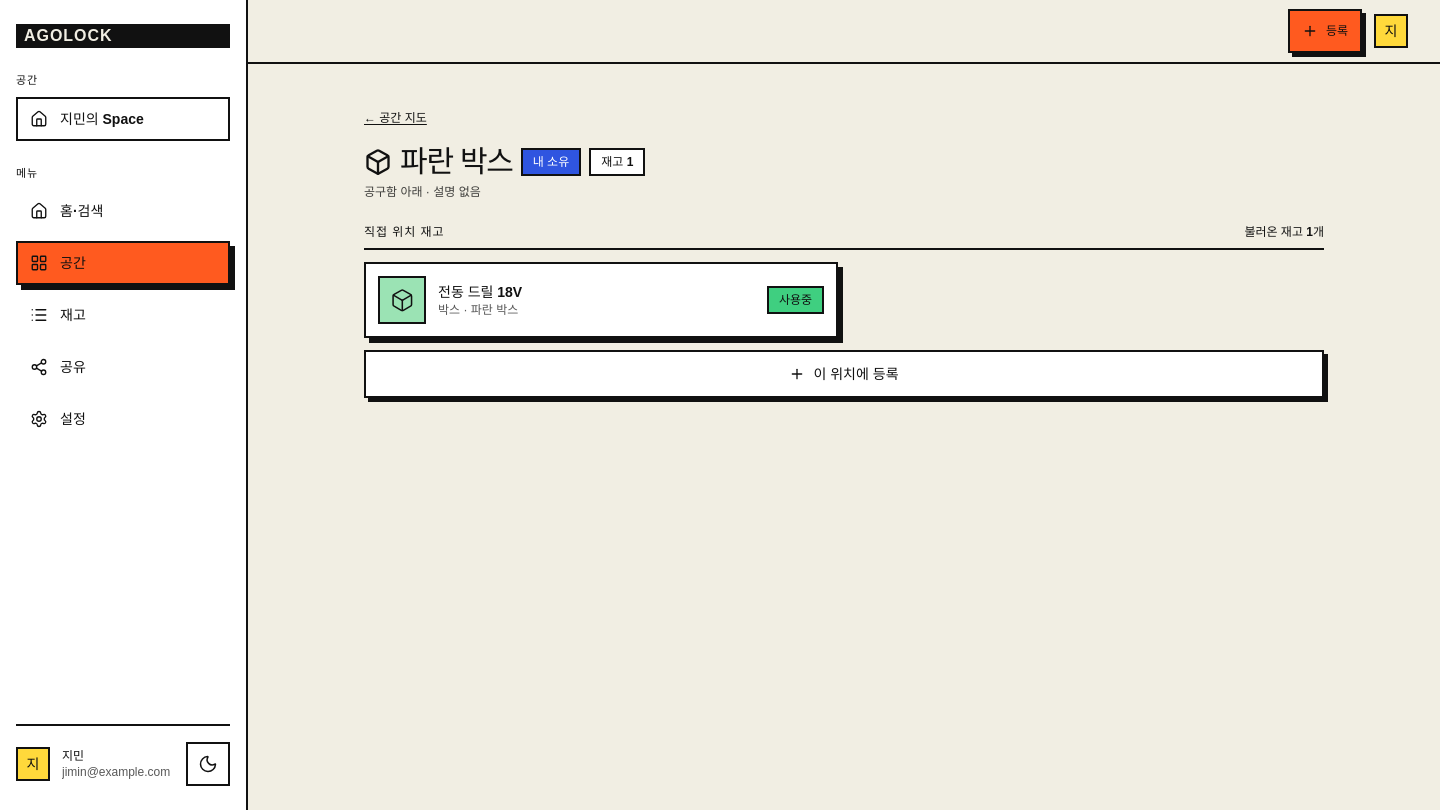
Test case: Box 상세 › 직접 위치 재고와 이 위치에 등록을 연결한다
Expected: the heading "파란 박스" is shown, [400,144,513,180]
Expected: the text "직접 위치 재고" is shown, [364,224,445,240]
What coordinates should you click on to do the following:
click the button "이 위치에 등록"
I would click on:
 (844, 374)
Its box is [364,350,1324,398].
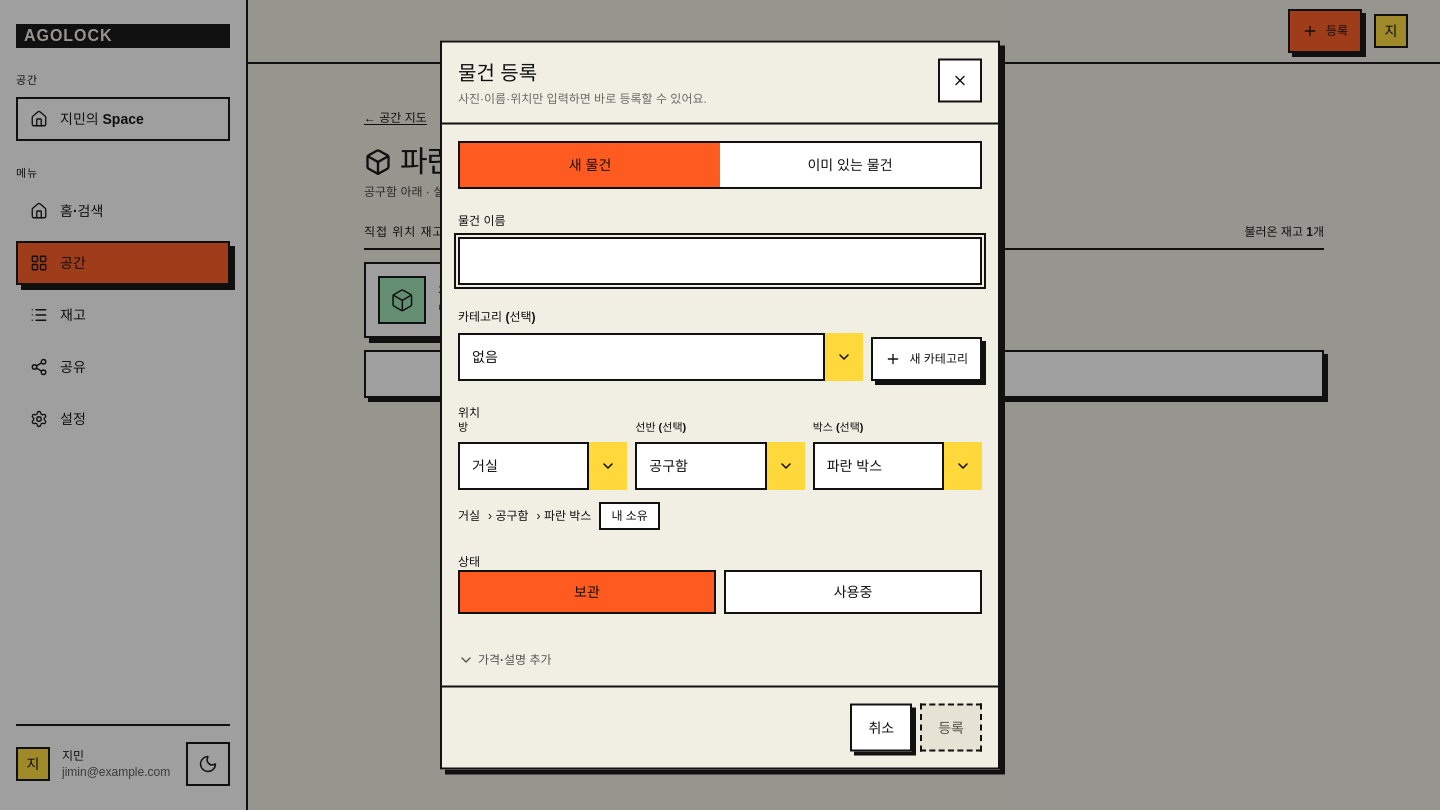
Now the heading "물건 등록" is shown, box [458,62,537,84]
Now the dropdown showing "거실" is shown, box [458,442,627,490]
